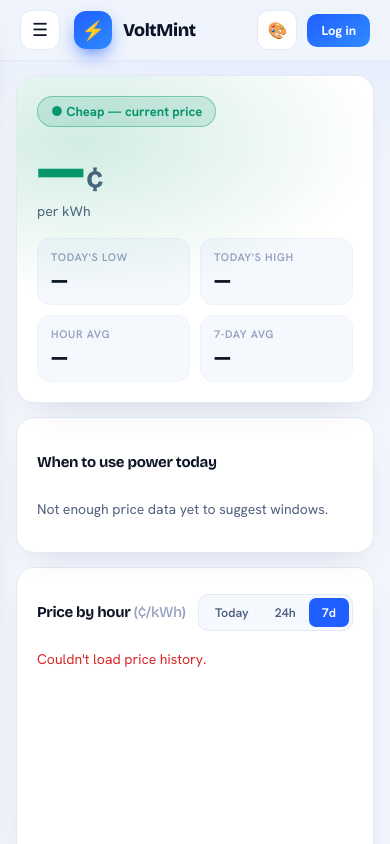
it: AppShell navigation › the hamburger button toggles the mobile side drawer
Click the button named "menu". click: click(40, 30)
box: x1=20 y1=10 x2=60 y2=50
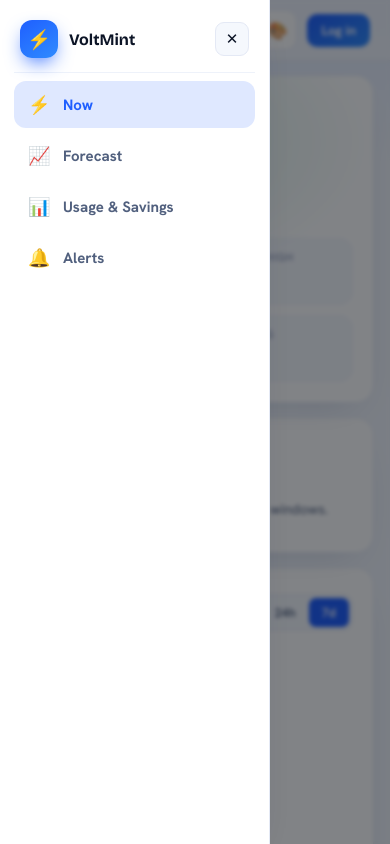
Check: the button named "menu" is expanded, box x1=20 y1=10 x2=60 y2=50
